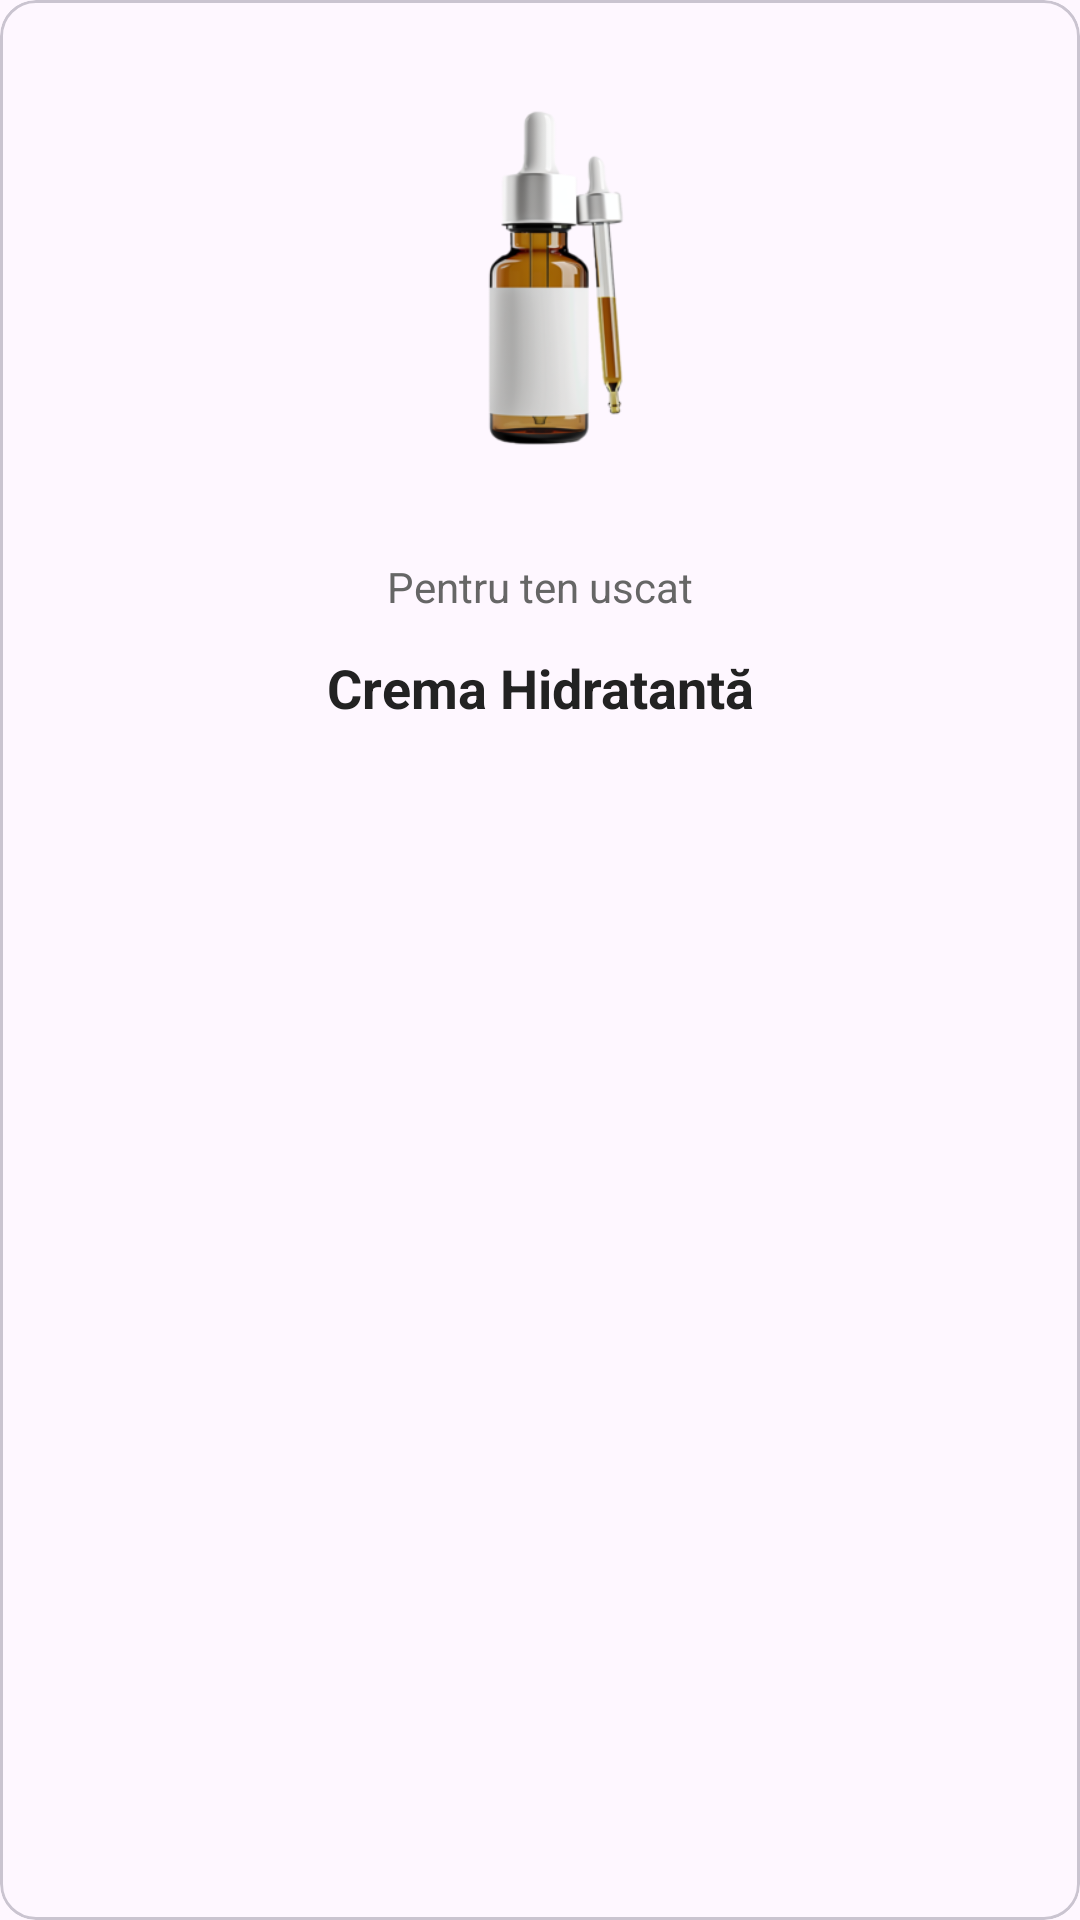

Locate icon controls on the screen. Image size 1080 x 1920, boxes as (x1,y1,x2,y2).
Imagine produs: (489,112,623,445)
